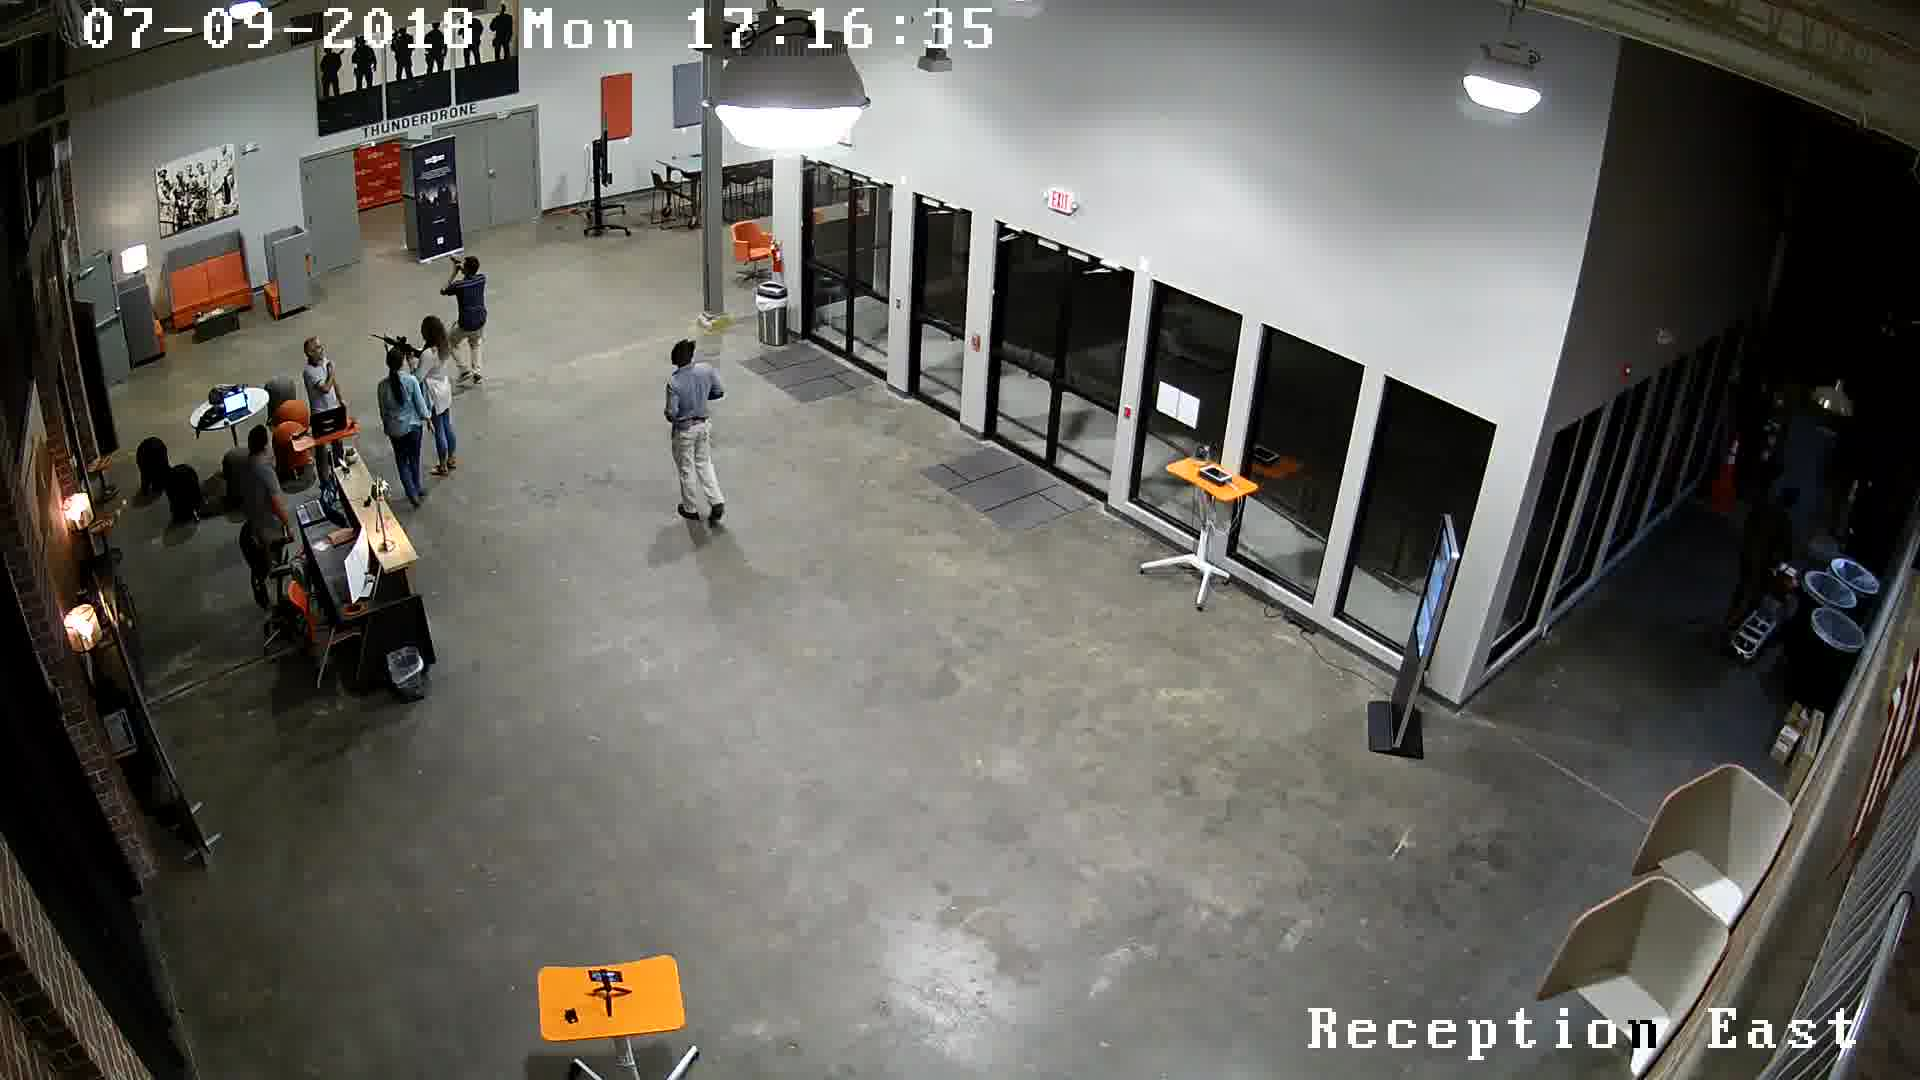pistol: (442, 249, 467, 280)
